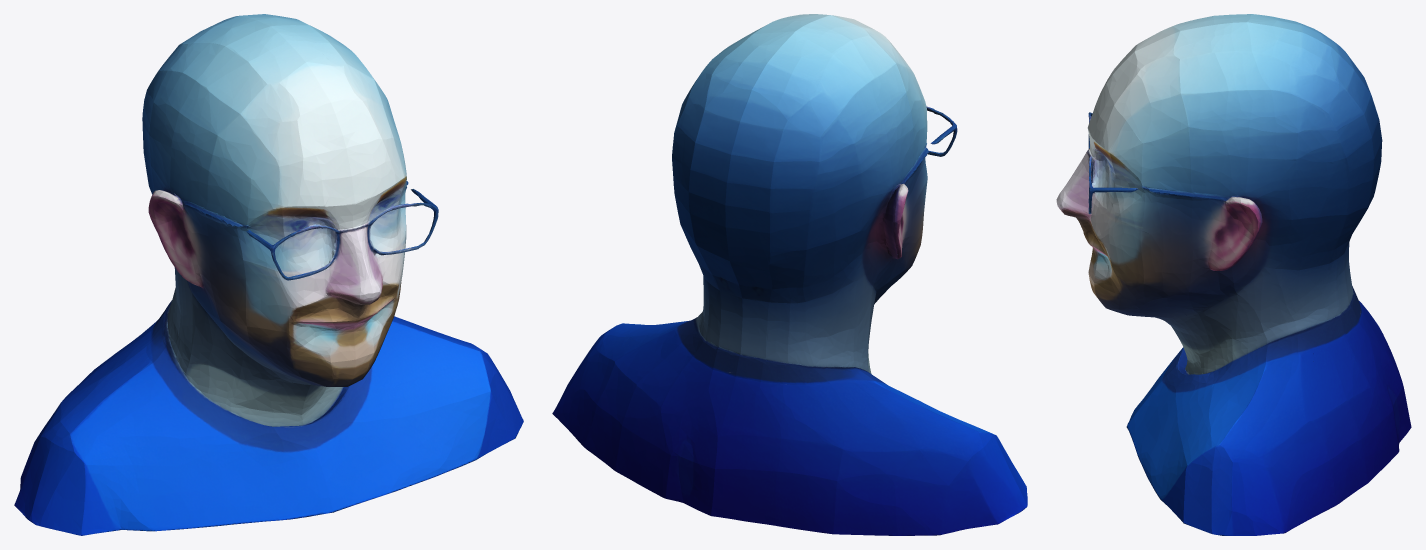
Rendered from me-lowpoly.glb.
3 views of the same model, side by side, from view 1: azimuth 30°, elevation 25°; view 2: azimuth 150°, elevation 25°; view 3: azimuth 270°, elevation 25° (orthographic). The views are drawn at different scales.
Parts seen in each view (by area): view 1: world; view 2: world; view 3: world.
Boxes of the visible parts, x1,y1,x2,y2 form: world: (14, 14, 523, 535); world: (552, 14, 1027, 535); world: (1056, 14, 1411, 535).
Bounding box in the file's own units: 1 × 0.8807 × 0.6975.
Materials: 1 (1 with a texture image).
